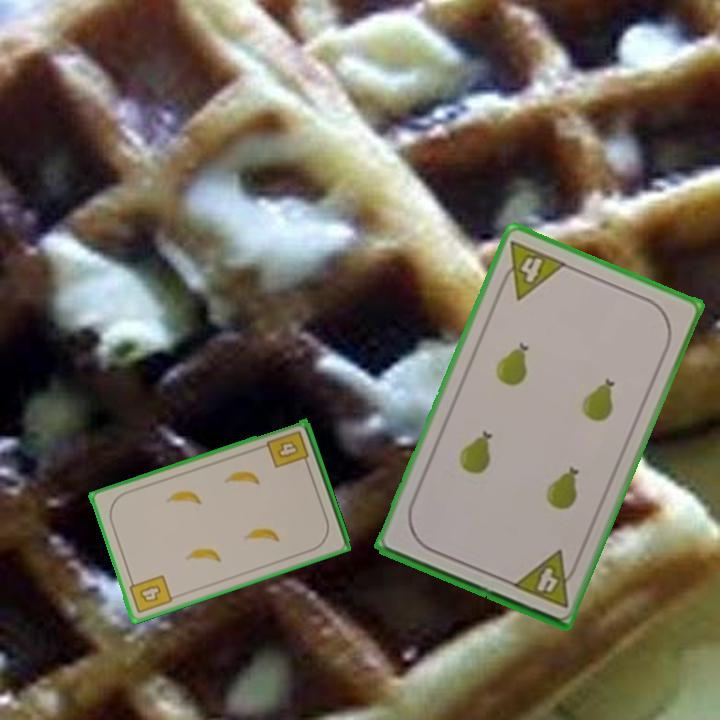4b: (125, 571, 175, 617), (263, 427, 312, 471)
4p: (494, 236, 569, 303), (508, 546, 582, 611)
